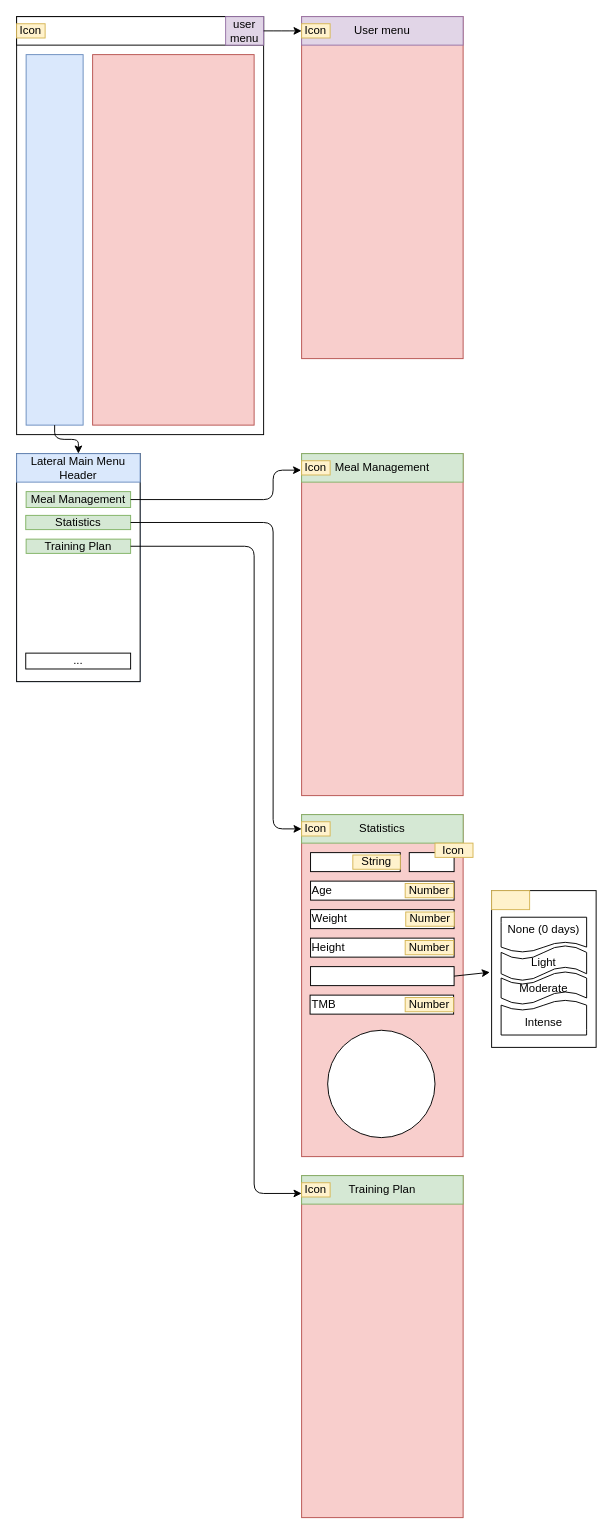
Some shapes in this 613 by 1534 pixel diagram are drawn without their labels. The shapes that lost their labels are listed below. From the top down, each one's box as (x1, y1, x2, y2) in pixels, then its label:
(16, 16, 264, 45): Selected Menu title
(25, 54, 83, 425): lateral Main menu access (foldable)
(92, 54, 254, 425): Lateral menu Activity
(310, 852, 400, 872): Name
(408, 852, 454, 872): Gender
(491, 890, 530, 910): Enum
(310, 966, 454, 986): Physical weekly activity
(327, 1029, 435, 1138): Pie Graph Meal % Prot, carbs, Fat
